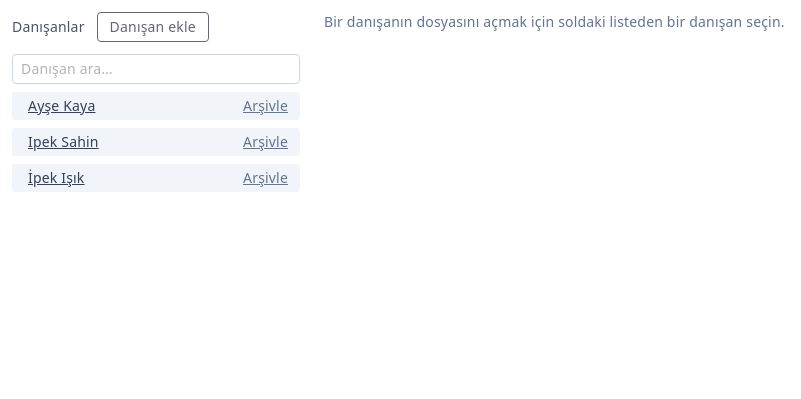
Test case: DanisanlarSekmesi — arama ve ekleme (tasarım B1) › form: IME birleştirmesi sürerken Esc formu KAPATMAZ; birleştirme dışında kapatır ve odak "Danışan ekle"ye döner
The image size is (801, 399).
Click the button "Danışan ekle" at (153, 27), box [97,12,209,42]
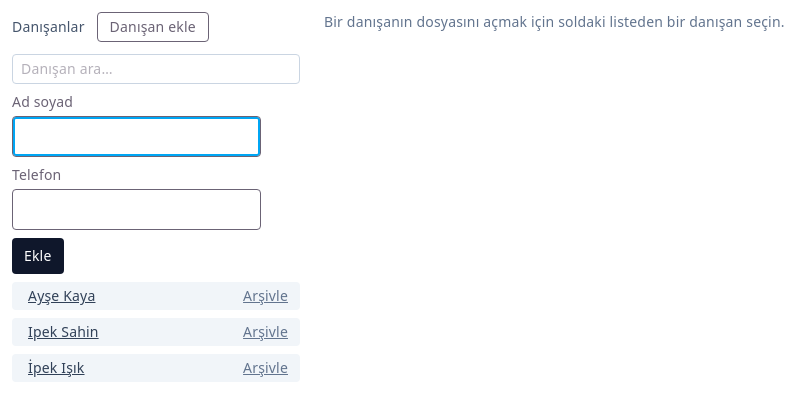
Type "Kâmil" into the field labelled "Ad soyad" at (136, 137), box [12,116,261,157]
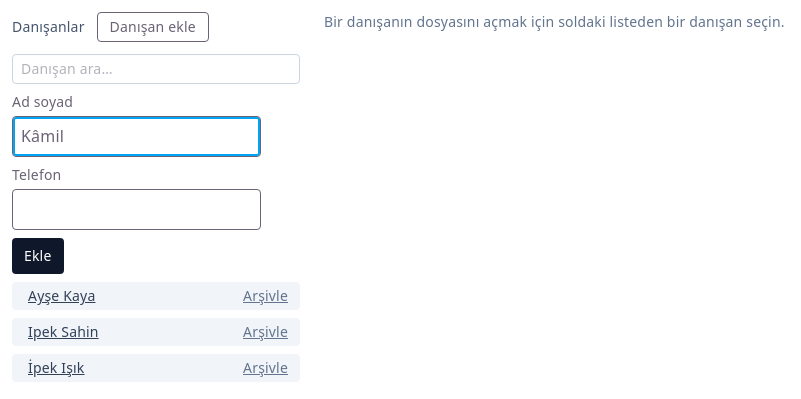
Press Escape in the field labelled "Ad soyad", box [12,116,261,157]
Press Escape in the field labelled "Ad soyad", box [12,116,261,157]
Press Escape in the field labelled "Telefon", box [12,189,261,230]
Press Escape
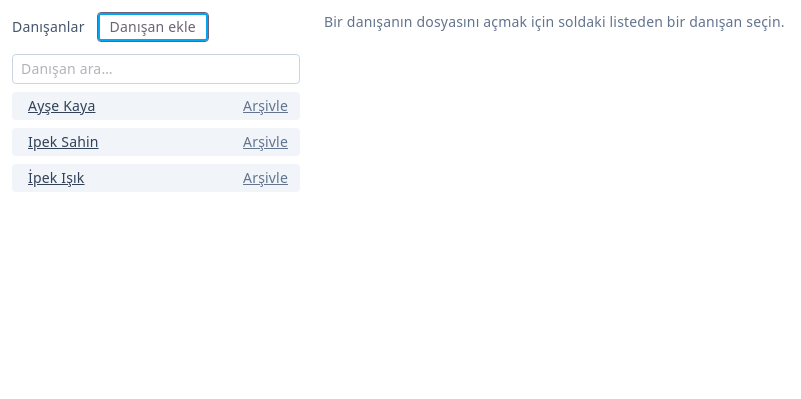
Expected: the label labelled "Ad soyad" is gone
